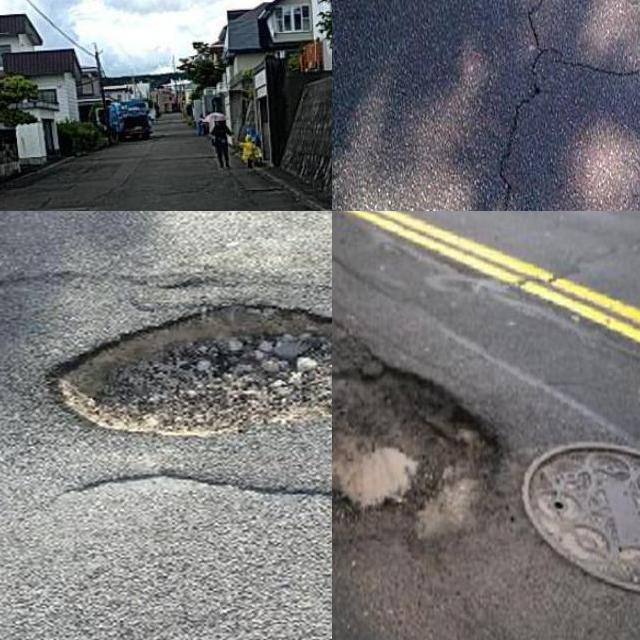Lubang: (50, 300, 332, 441), (332, 318, 495, 550), (528, 445, 640, 598)
Melintang: (501, 37, 640, 87)
Memanjang: (484, 0, 570, 211)
